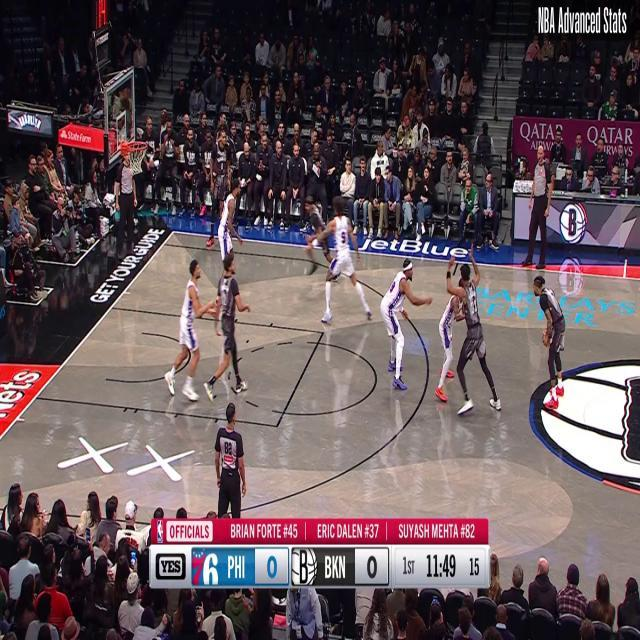ball: (540, 316, 556, 358)
player: (445, 241, 502, 418), (304, 192, 373, 324), (163, 256, 219, 404), (379, 256, 433, 393), (202, 252, 250, 404), (203, 117, 241, 250), (532, 273, 566, 412), (300, 194, 349, 290), (434, 280, 464, 408), (213, 174, 243, 281)
